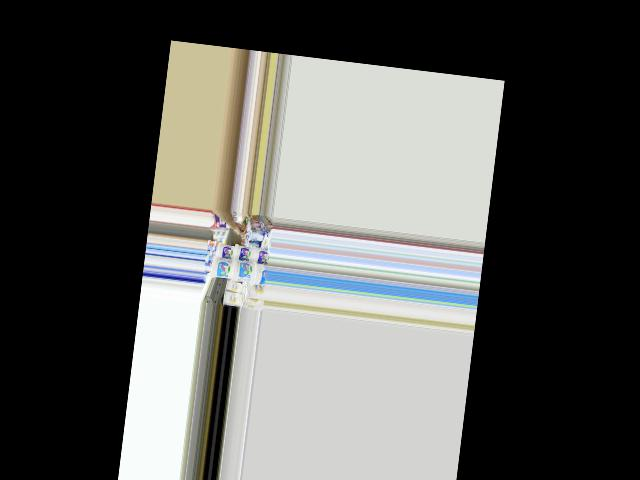cotage: (233, 245, 255, 264)
